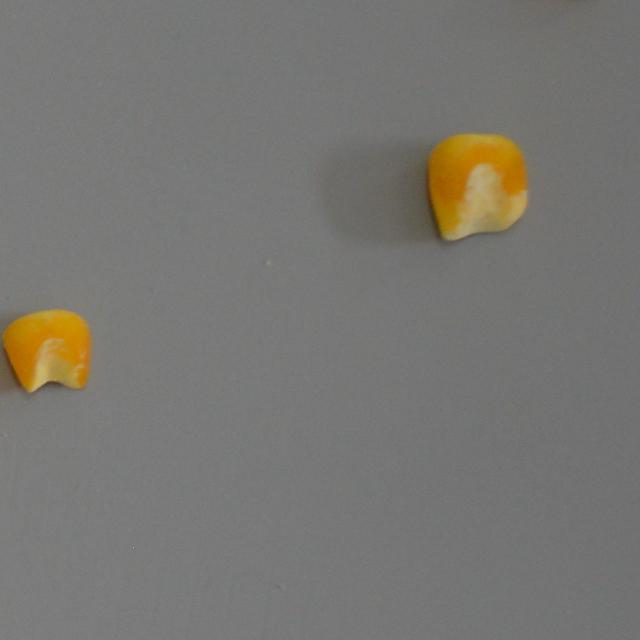dañado: (420, 128, 534, 246)
pelicula: (0, 306, 93, 398)
